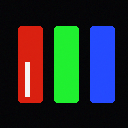4 line_v: (25, 62, 29, 96)
